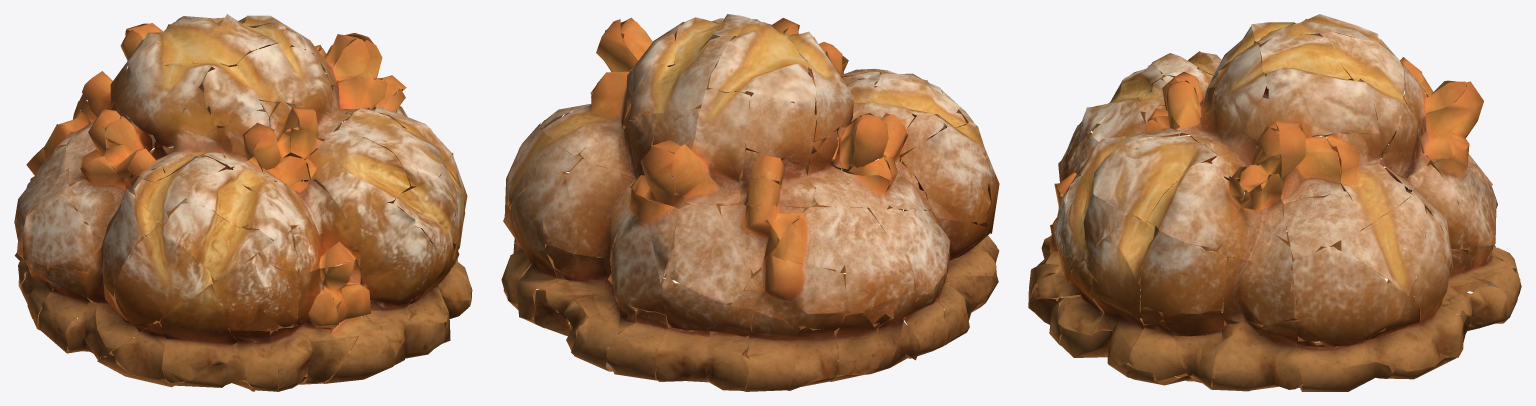
File: monument-golden-bloom.glb
3 renders of one model, left to right at view 1: azimuth 30°, elevation 25°; view 2: azimuth 150°, elevation 25°; view 3: azimuth 270°, elevation 25°, orthographic. The views are drawn at different scales.
Parts seen in each view (by area): view 1: Mesh_0; view 2: Mesh_0; view 3: Mesh_0.
Boxes of the visible parts, x1,y1,x2,y2 form: Mesh_0: [14, 14, 472, 391]; Mesh_0: [501, 14, 999, 391]; Mesh_0: [1028, 14, 1521, 391].
Size of the model in its own units: 1.79 by 1.2 by 1.89.
Materials: 1 (1 with a texture image).
